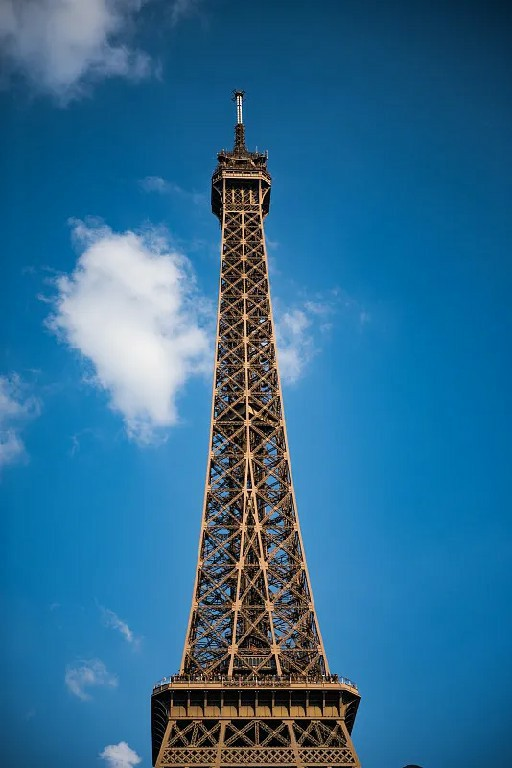Eiffel: (150, 90, 362, 768)
